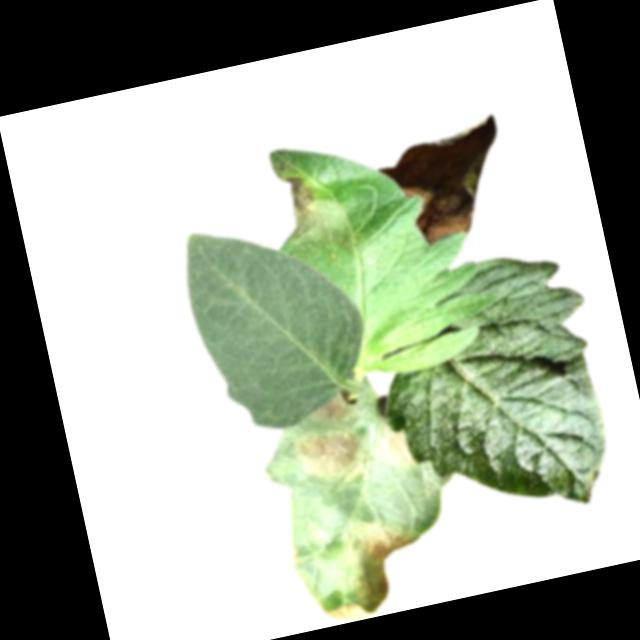Late_blight: (371, 114, 518, 250), (307, 508, 427, 627), (274, 161, 356, 264), (291, 419, 374, 495), (374, 419, 418, 475), (310, 390, 351, 427)
healthy: (360, 240, 628, 541), (174, 198, 390, 440)
